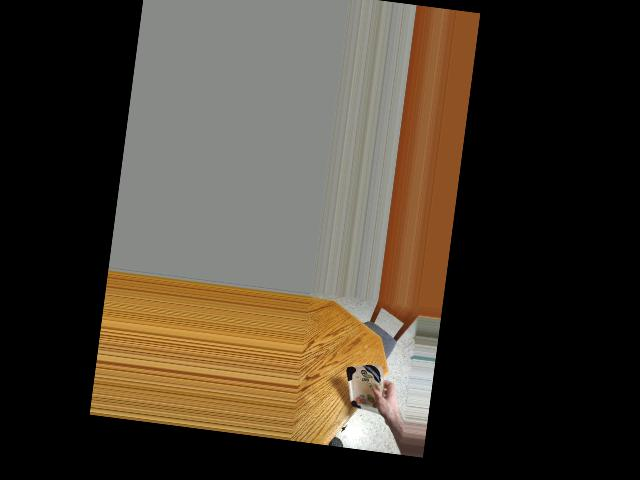cheese: (344, 359, 386, 419)
